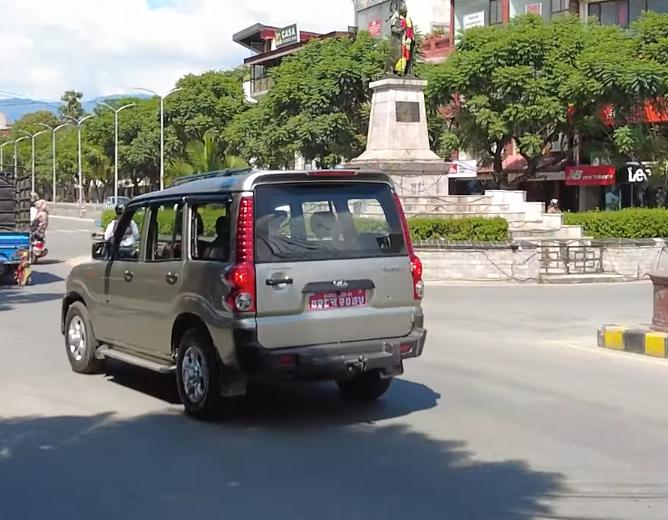SUV: (57, 158, 442, 432)
